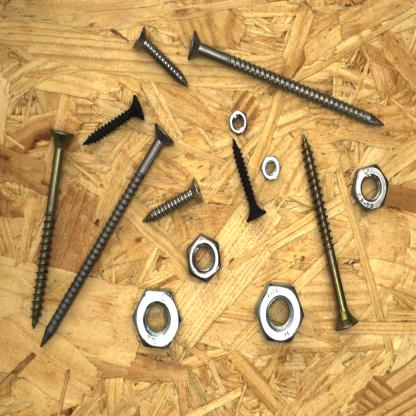screw: (38, 119, 177, 351), (186, 28, 388, 130), (300, 130, 361, 335), (28, 125, 77, 332), (131, 21, 190, 90), (80, 90, 148, 148), (230, 133, 270, 226), (140, 174, 207, 226)
